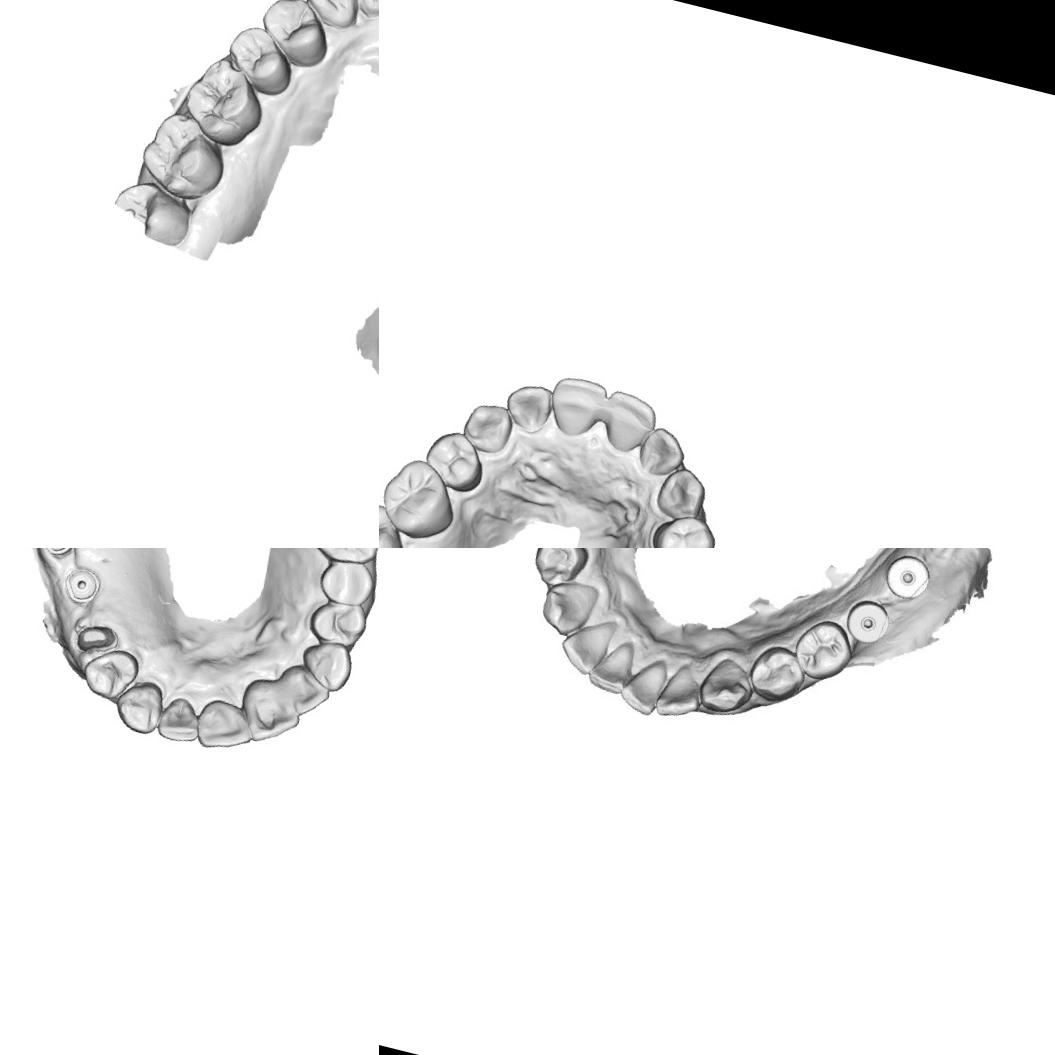canine: (532, 576, 596, 642), (456, 396, 518, 458), (294, 634, 356, 696), (652, 461, 711, 524), (109, 674, 168, 737), (698, 654, 756, 718), (298, 0, 366, 35)
crown: (72, 618, 119, 659)
implant: (882, 550, 937, 610), (836, 591, 894, 647), (59, 563, 105, 608)
implant_minus: (33, 548, 79, 560)
incisor: (231, 674, 307, 751), (542, 368, 610, 443), (595, 387, 663, 459), (189, 694, 258, 758), (270, 660, 334, 721), (498, 375, 558, 436), (634, 421, 691, 482), (655, 662, 711, 718), (154, 691, 207, 747), (621, 656, 668, 716), (584, 640, 634, 694), (560, 621, 608, 669)
molar: (133, 106, 235, 208), (176, 50, 274, 153), (379, 451, 466, 546), (379, 495, 416, 548), (299, 548, 379, 570)
premolar: (218, 19, 302, 100), (252, 0, 338, 71), (418, 424, 492, 498), (76, 640, 142, 706), (793, 616, 854, 682), (304, 593, 371, 652), (314, 553, 378, 611), (748, 642, 808, 703), (646, 505, 721, 548), (528, 548, 593, 595)
